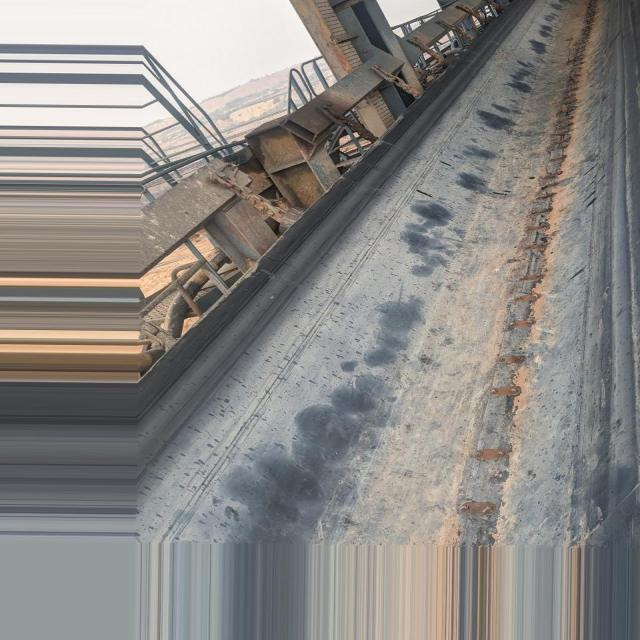patch work: (450, 0, 608, 540)
